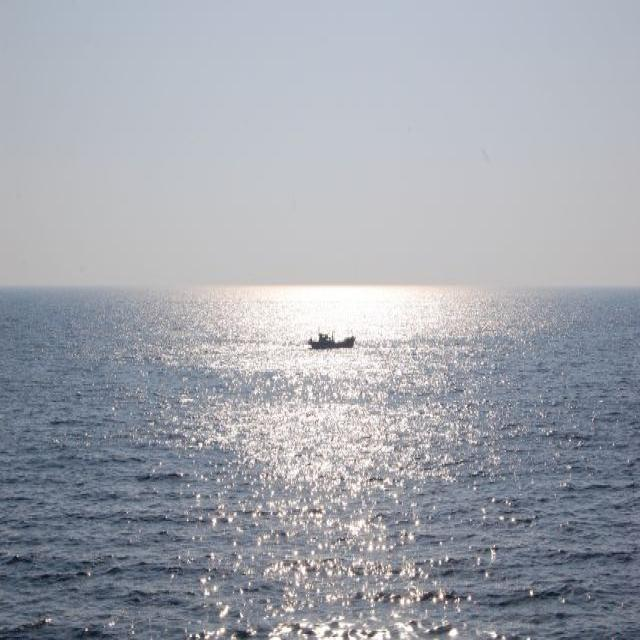fishing boat: (300, 322, 361, 352)
